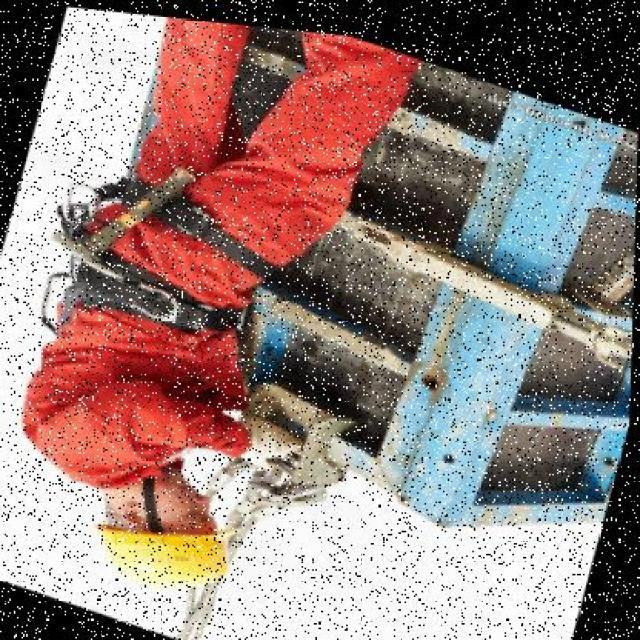helmet: (80, 466, 266, 608)
